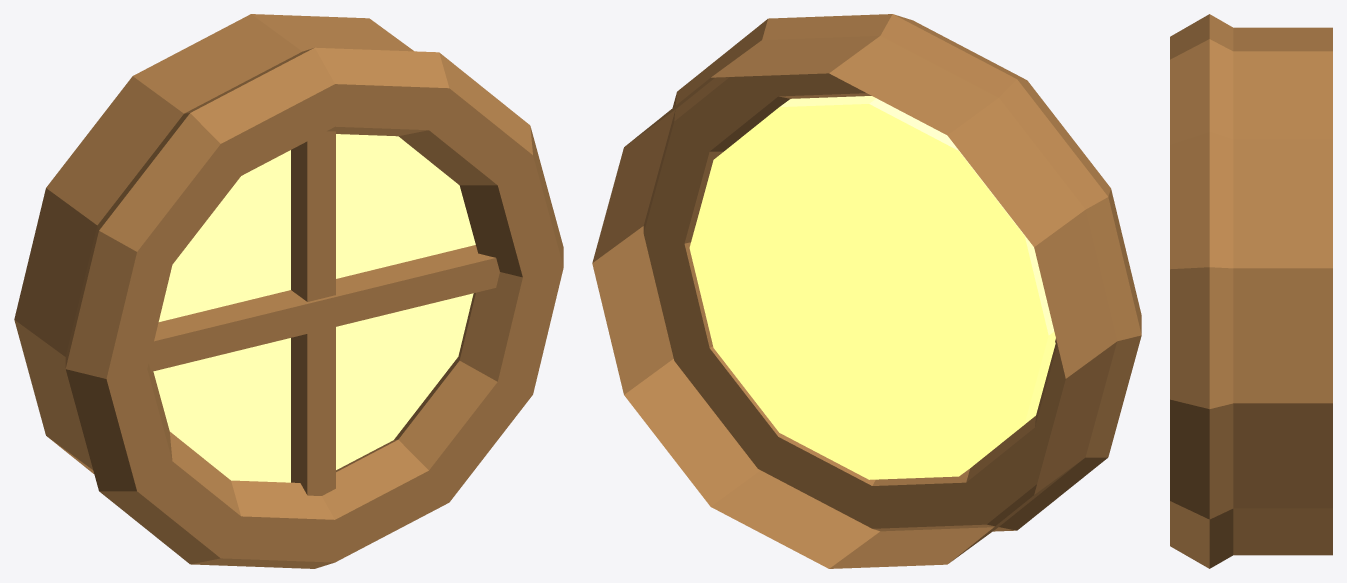
The model's file is mod_window_insert_round.glb.
3 renders of one model, left to right at view 1: azimuth 30°, elevation 25°; view 2: azimuth 150°, elevation 25°; view 3: azimuth 270°, elevation 25°, orthographic. The views are drawn at different scales.
Parts seen in each view (by area): view 1: mod_window_insert_round; view 2: mod_window_insert_round; view 3: mod_window_insert_round.
Part boxes in pixels (x1,y1,x2,y2): mod_window_insert_round: [14, 14, 563, 568]; mod_window_insert_round: [592, 14, 1141, 568]; mod_window_insert_round: [1170, 14, 1332, 568].
Bounding box in the file's own units: 0.61 × 0.61 × 0.1783.
